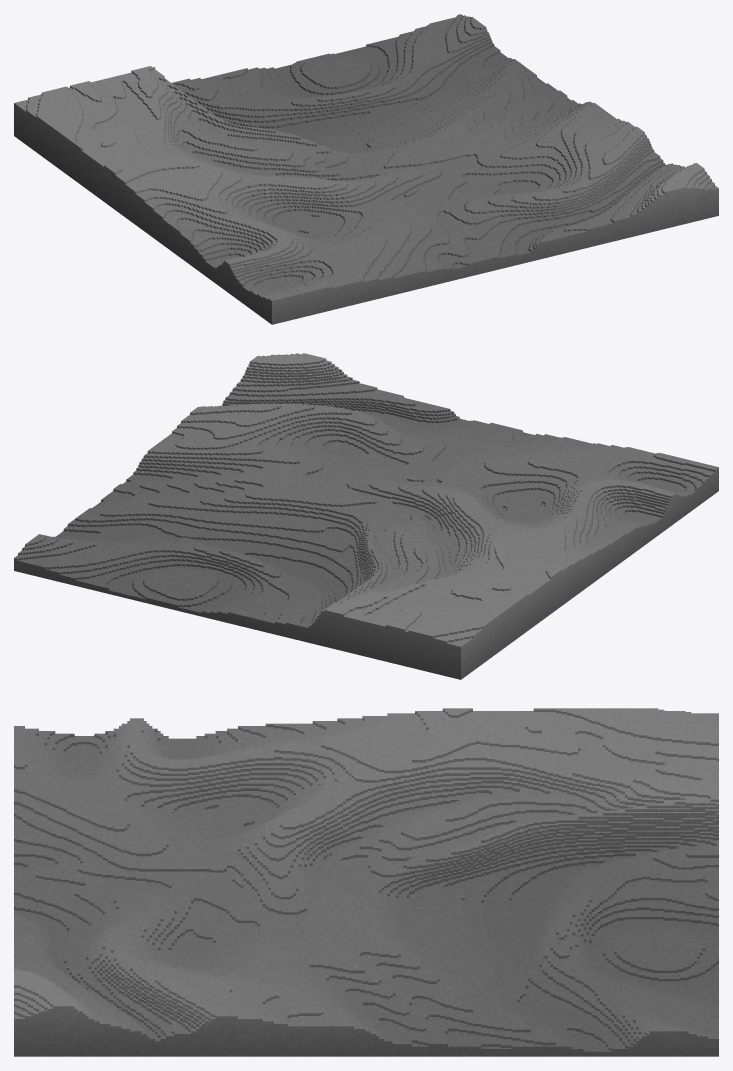
The model's file is LunaGrande-3.obj.
3 renders of one model, top to bottom at view 1: azimuth 30°, elevation 25°; view 2: azimuth 150°, elevation 25°; view 3: azimuth 270°, elevation 25°, orthographic. The views are drawn at different scales.
Size of the model in its own units: 25.5 by 2 by 25.5.
Materials: 1 (1 with a texture image).
